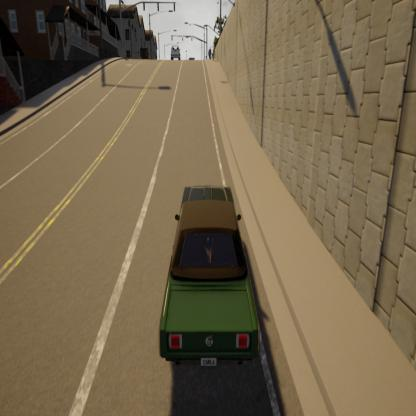Cars: (130, 146, 273, 389), (162, 27, 184, 65)
